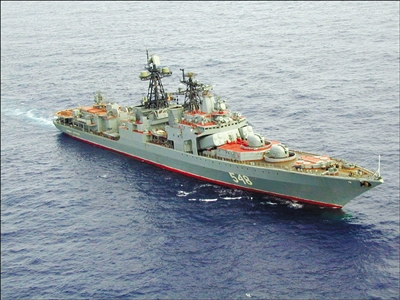warship: (53, 46, 385, 218)
